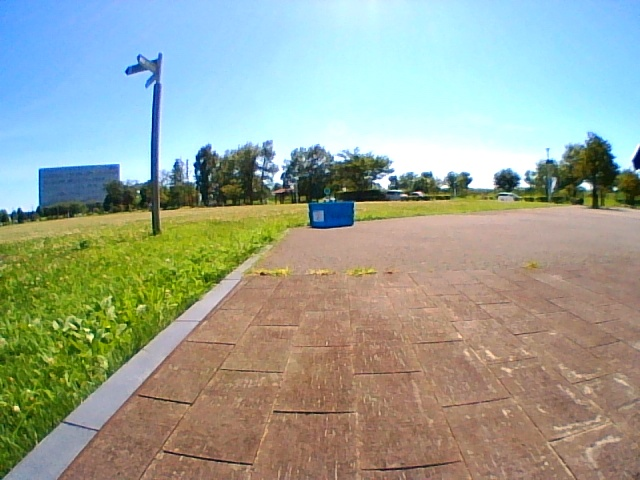blue_box: (308, 202, 354, 229)
tag: (312, 209, 324, 222)
